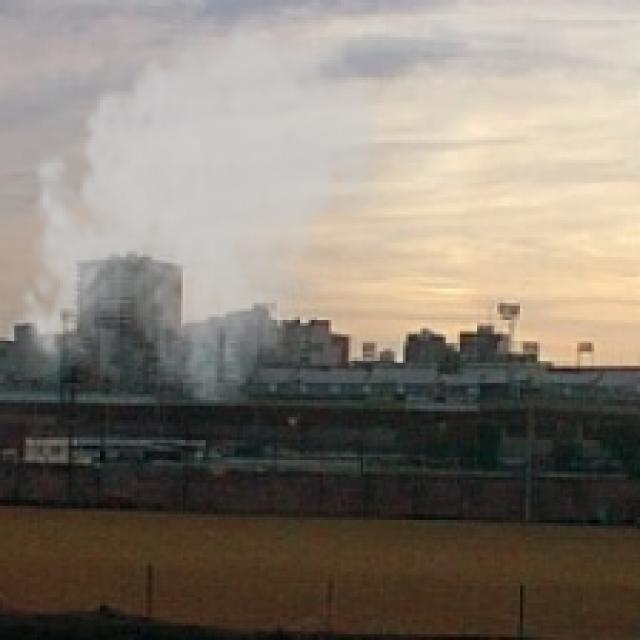smoke: (8, 3, 386, 406)
